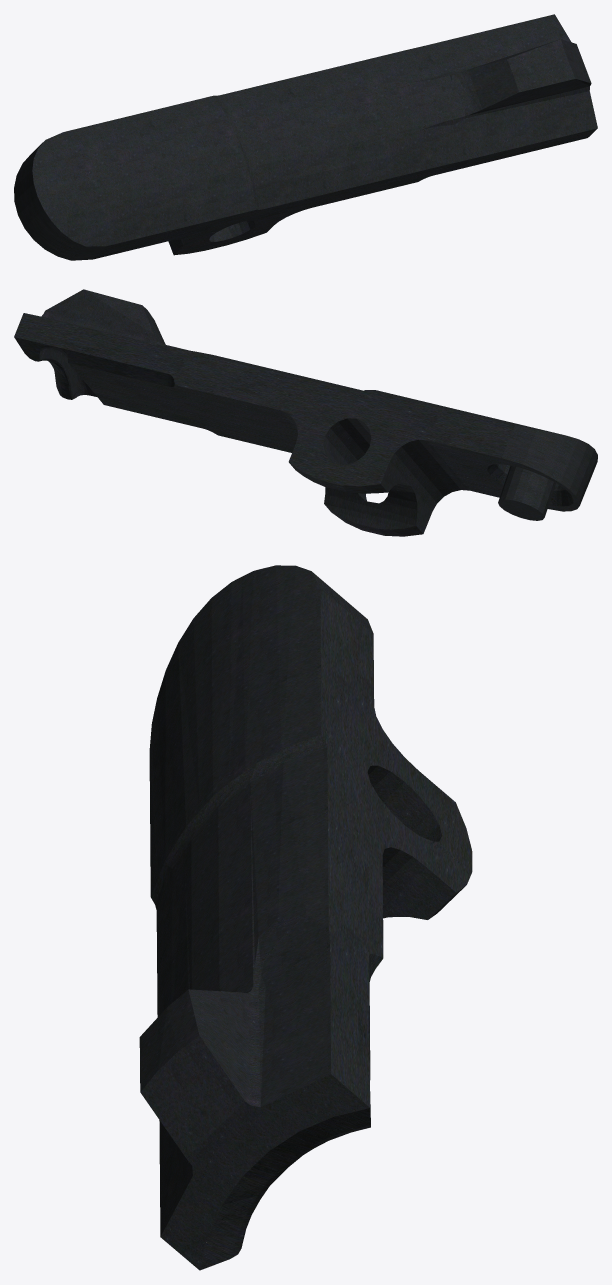
File: Extractor.dae
3 views of the same model, one above another, from view 1: azimuth 30°, elevation 25°; view 2: azimuth 150°, elevation 25°; view 3: azimuth 270°, elevation 25° (orthographic). The views are drawn at different scales.
Parts seen in each view (by area): view 1: Extractor; view 2: Extractor; view 3: Extractor.
Part boxes in pixels (x1=…): Extractor: x1=14, y1=14, x2=597, y2=260; Extractor: x1=14, y1=289, x2=597, y2=536; Extractor: x1=139, y1=565, x2=472, y2=1270.
Bounding box in the file's own units: 0.0306 × 0.00813 × 0.008.
Materials: 1 (1 with a texture image).
